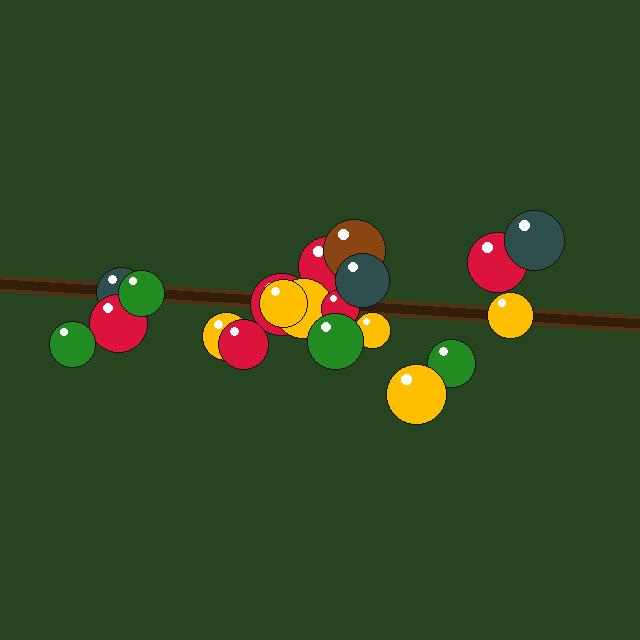Dry_Damaged: (504, 210, 564, 270), (335, 253, 389, 307), (96, 267, 146, 317)
Overripe: (323, 219, 385, 281)
Ripe: (250, 273, 312, 335), (298, 236, 358, 296), (467, 232, 527, 292), (89, 294, 147, 352), (218, 319, 268, 369), (321, 289, 359, 327)
Ripening: (386, 364, 446, 424), (273, 278, 333, 338), (265, 286, 313, 334), (202, 312, 250, 360), (259, 279, 307, 327), (487, 292, 533, 338), (354, 312, 390, 348)
Unripe: (307, 313, 363, 369), (427, 339, 475, 387), (49, 321, 95, 367), (118, 270, 164, 316)
